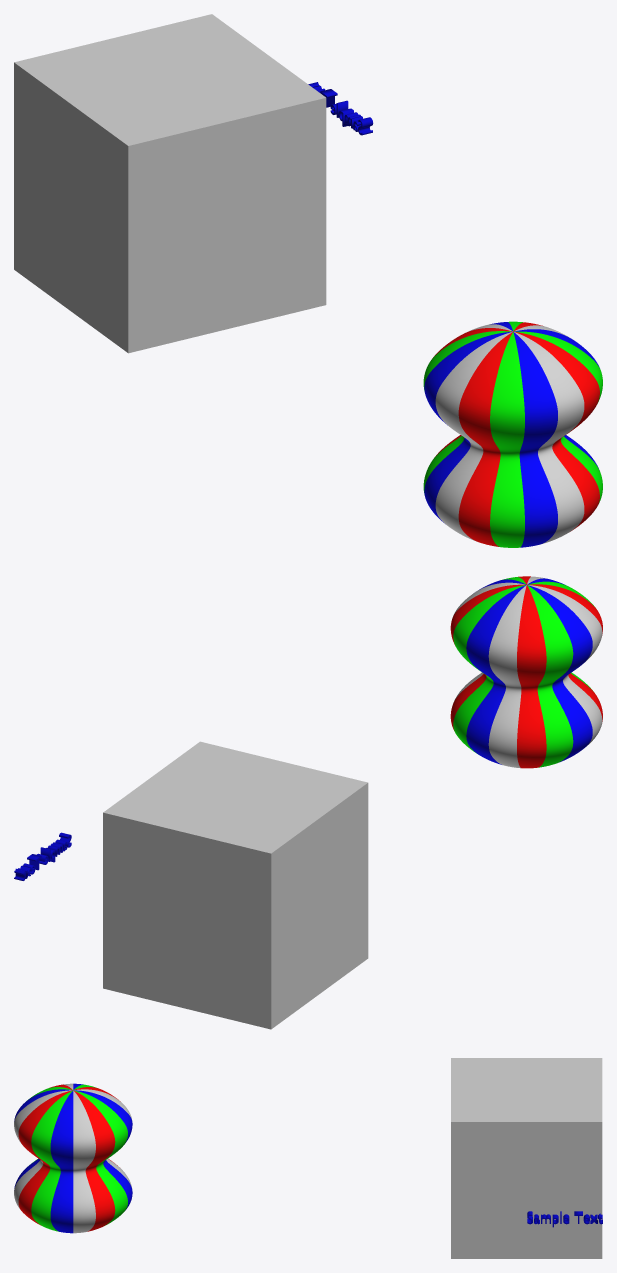
The model's file is MemeFailImpact.obj.
3 views of the same model, one above another, from view 1: azimuth 30°, elevation 25°; view 2: azimuth 150°, elevation 25°; view 3: azimuth 270°, elevation 25° (orthographic). The views are drawn at different scales.
Parts seen in each view (by area): view 1: Cube, Sphere_Sphere.001, Text; view 2: Cube, Sphere_Sphere.001, Text; view 3: Cube, Sphere_Sphere.001, Text.
Boxes of the visible parts, bbox=[...] form: Cube: bbox=[14, 14, 326, 353]; Sphere_Sphere.001: bbox=[423, 321, 602, 547]; Text: bbox=[308, 82, 373, 135]; Cube: bbox=[103, 741, 368, 1029]; Sphere_Sphere.001: bbox=[450, 576, 602, 768]; Text: bbox=[14, 832, 71, 880]; Cube: bbox=[451, 1058, 602, 1258]; Sphere_Sphere.001: bbox=[14, 1083, 132, 1233]; Text: bbox=[527, 1211, 602, 1227].
Bounding box in the file's own units: 3.05 × 2 × 7.79.
